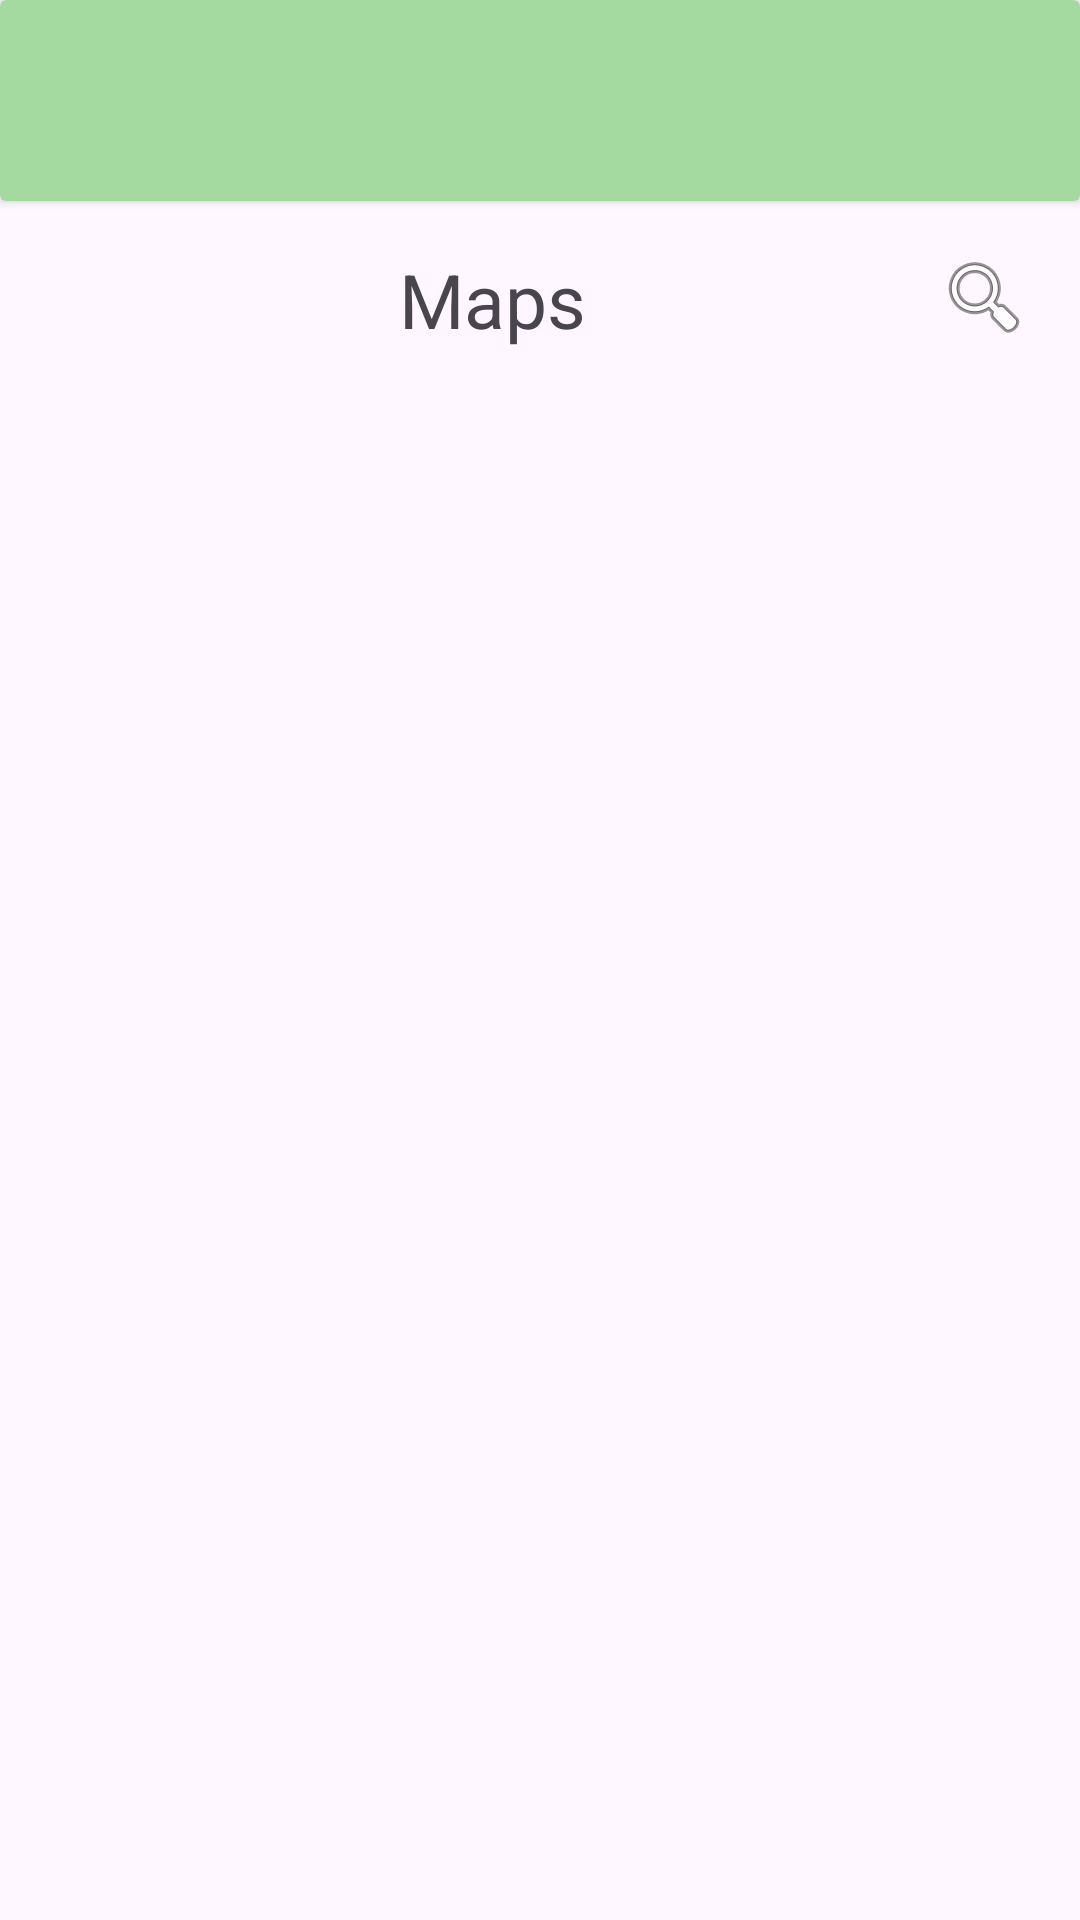

Where to tap for icons on this 1080 × 1920 app screen, as (x,y):
search: (984,297)
